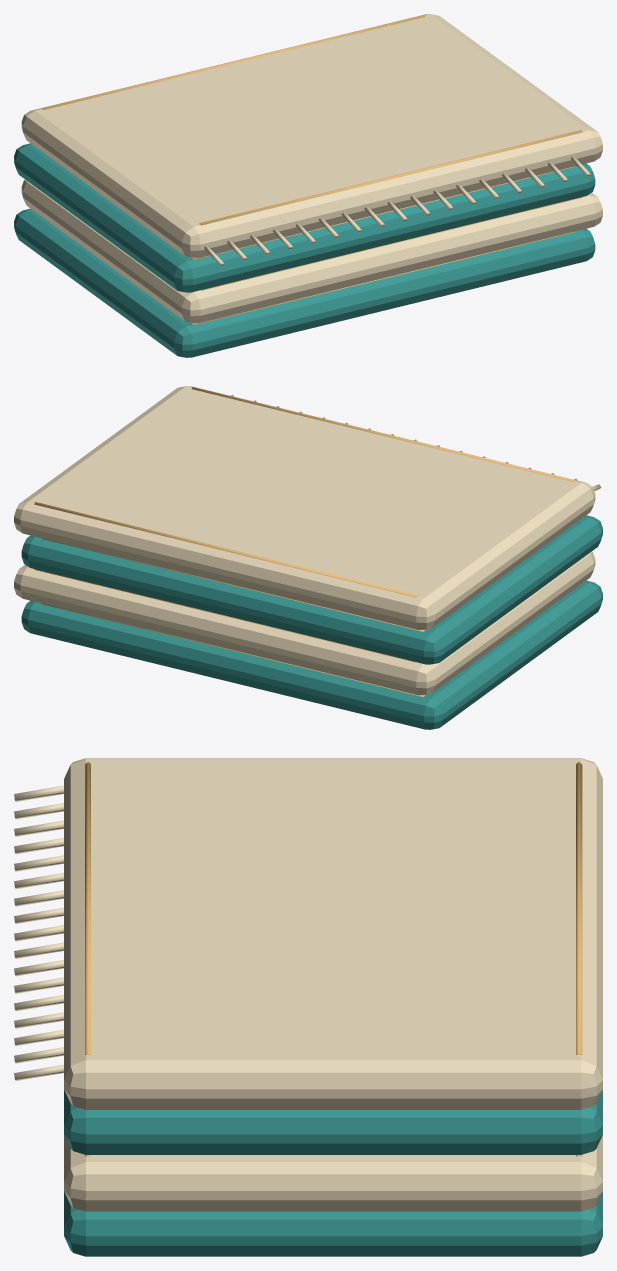
Rendered from folded-linen.glb.
3 views of the same model, one above another, from view 1: azimuth 30°, elevation 25°; view 2: azimuth 150°, elevation 25°; view 3: azimuth 270°, elevation 25° (orthographic). The views are drawn at different scales.
Visible parts, largest first — view 1: folded-linen__linen, folded-linen__teal, folded-linen__ochre; view 2: folded-linen__linen, folded-linen__teal, folded-linen__ochre; view 3: folded-linen__linen, folded-linen__teal, folded-linen__ochre.
Part boxes in pixels (x1,y1,x2,y2): folded-linen__linen: (21, 14, 602, 323); folded-linen__teal: (14, 143, 595, 357); folded-linen__ochre: (42, 14, 582, 325); folded-linen__linen: (14, 386, 601, 695); folded-linen__teal: (21, 515, 602, 729); folded-linen__ochre: (34, 386, 574, 697); folded-linen__linen: (14, 758, 602, 1211); folded-linen__teal: (64, 1089, 602, 1256); folded-linen__ochre: (85, 762, 582, 1156).
Bounding box in the file's own units: 0.672 × 0.1965 × 0.5137.
